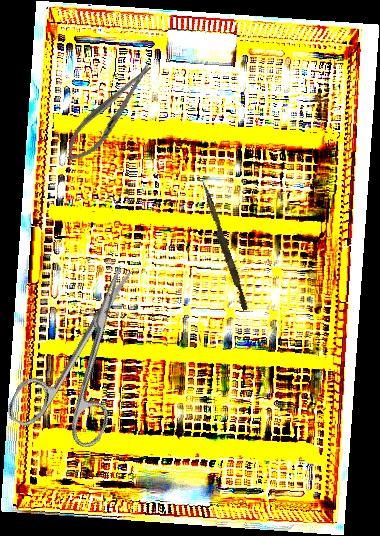Iris Scissors: (3, 248, 173, 459)
Needle Holder: (57, 56, 162, 170)
Pusher: (196, 180, 252, 311)
